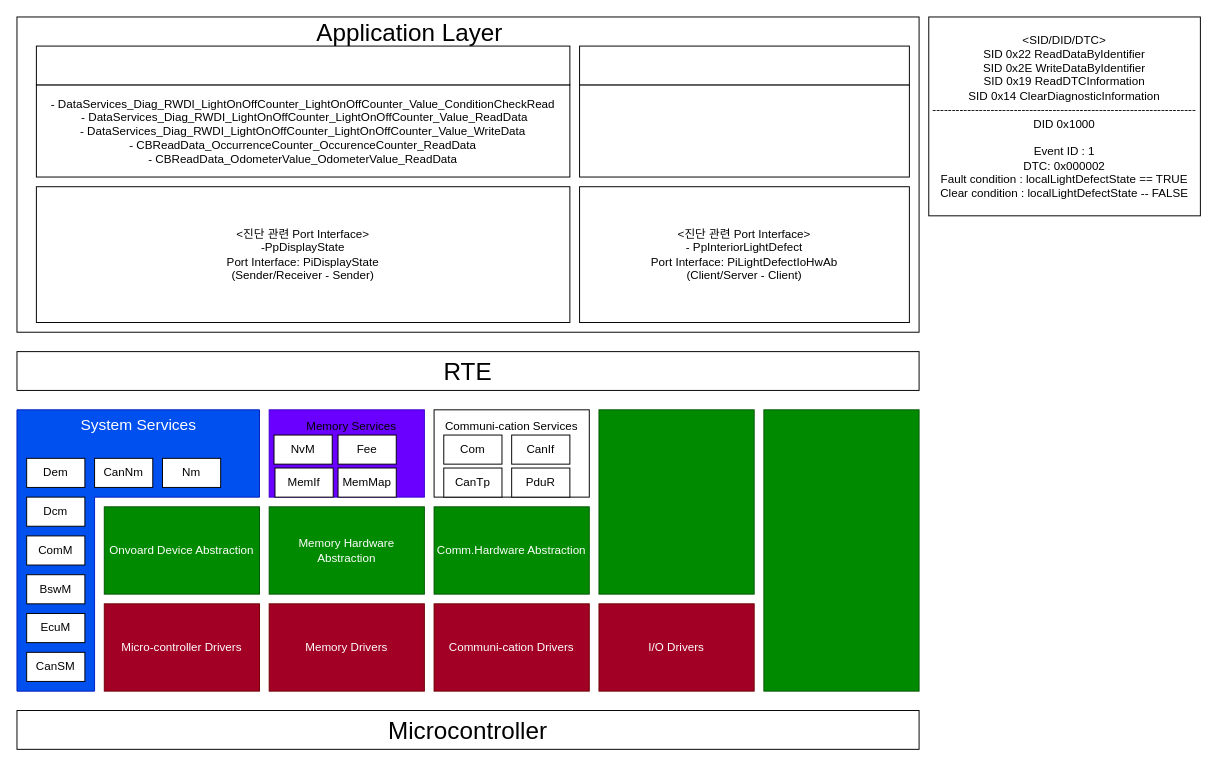
This 1217x766 diagram has some shape labels left out. Each missing label, with the centre of its shape:
"- RCtSaInteriorLightSwitchLight" belongs at pixel 744 130.
"Complex Drivers" belongs at pixel 841 550.
"CpApMySwc<진단 관련 Runnable>" belongs at pixel 302 65.
"CtSaInteriorLight<진단 관련 Runnable>" belongs at pixel 744 65.
"I/O Hardware Abstraction" belongs at pixel 676 501.
